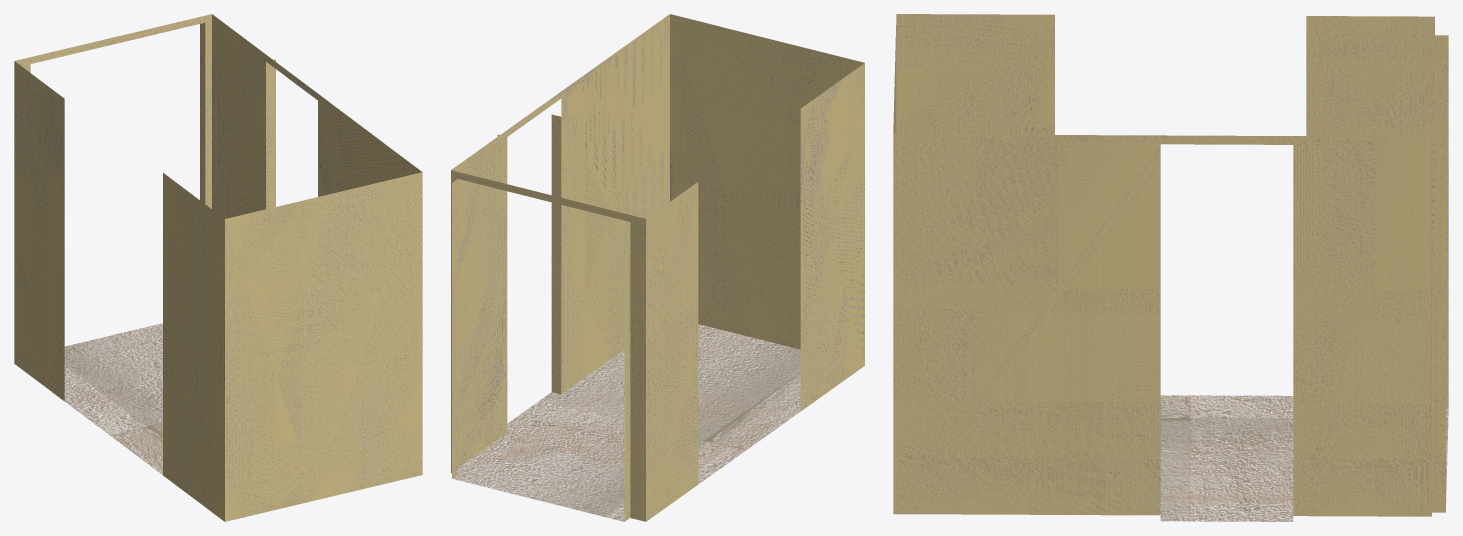
File: COM007.obj
3 views of the same model, side by side, from view 1: azimuth 30°, elevation 25°; view 2: azimuth 150°, elevation 25°; view 3: azimuth 270°, elevation 25° (orthographic). The views are drawn at different scales.
Visible parts, largest first — view 1: Mesh1 COM007 Model; view 2: Mesh1 COM007 Model; view 3: Mesh1 COM007 Model.
Boxes of the visible parts, box(x1,y1,x2,y2) form: Mesh1 COM007 Model: box(14, 14, 422, 521); Mesh1 COM007 Model: box(451, 14, 864, 521); Mesh1 COM007 Model: box(893, 14, 1448, 521).
Bounding box in the file's own units: 2.17 × 3 × 3.98.
Materials: 3 (2 with a texture image).
